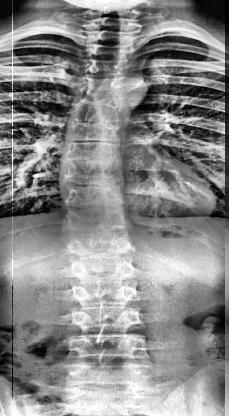Vertebrae: (70, 301, 148, 332), (67, 332, 150, 361), (60, 178, 130, 212), (68, 274, 140, 306), (62, 204, 132, 234), (64, 252, 138, 280), (64, 230, 138, 257), (62, 156, 124, 188), (62, 136, 128, 164), (66, 116, 130, 144), (70, 92, 130, 121), (76, 72, 134, 98), (82, 40, 132, 64), (82, 26, 136, 46), (84, 57, 129, 80)
